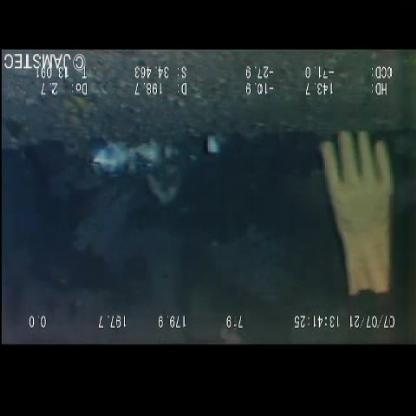Rác: (178, 126, 223, 164)
